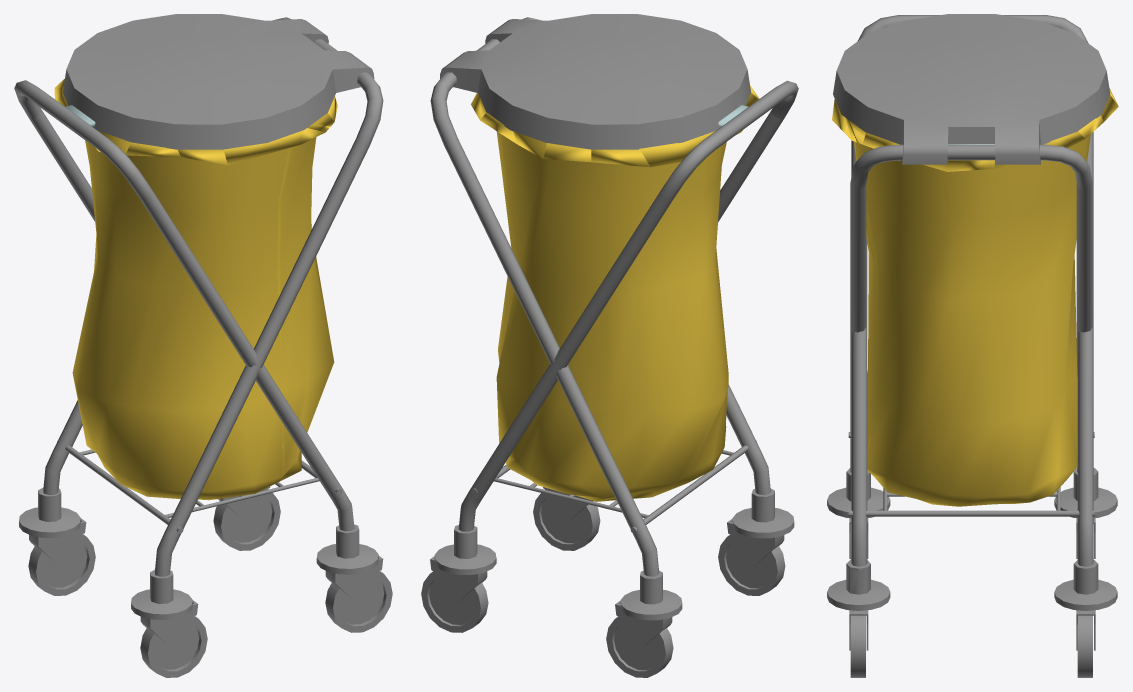
The model's file is poubelle_all.FBX.
The picture shows the model from 3 angles, left to right: view 1: azimuth 30°, elevation 25°; view 2: azimuth 150°, elevation 25°; view 3: azimuth 270°, elevation 25°; orthographic projection.
Visible parts, largest first — view 1: Object004, Poubelle, couvercle; view 2: Object004, Poubelle, couvercle; view 3: Object004, couvercle, Poubelle.
Part boxes in pixels (box(x1,y1,x2,y2)): Object004: box(54, 79, 337, 500); Poubelle: box(14, 17, 392, 677); couvercle: box(62, 14, 374, 149); Object004: box(471, 85, 759, 501); Poubelle: box(421, 17, 798, 677); couvercle: box(440, 14, 750, 149); Object004: box(832, 88, 1118, 506); couvercle: box(833, 14, 1110, 164); Poubelle: box(827, 15, 1117, 677).
Bounding box in the file's own units: 48.06 × 90.67 × 42.9.
